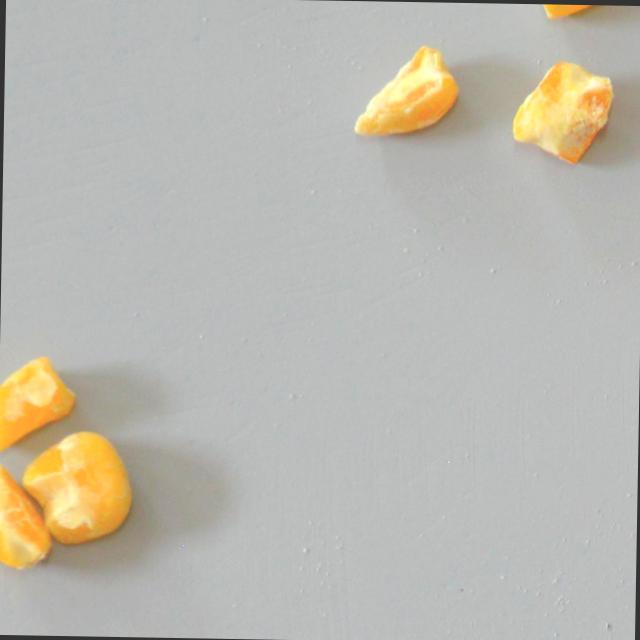pelicula: (20, 428, 139, 543), (511, 58, 617, 165), (351, 41, 461, 139), (0, 352, 77, 455), (0, 459, 57, 569), (532, 4, 640, 22)
